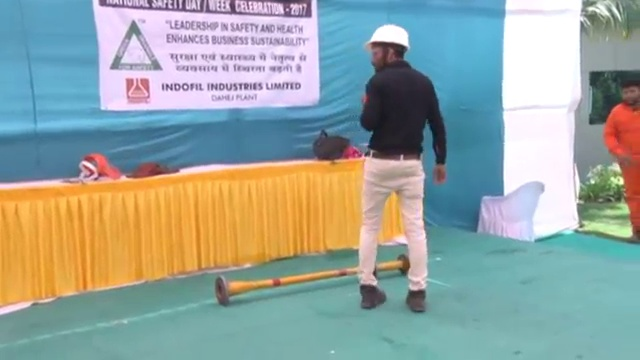helmet: (364, 22, 411, 53)
helmet_off: (618, 80, 640, 108)
helmet_on: (364, 24, 412, 70)
person: (350, 22, 447, 313), (603, 80, 640, 237)
